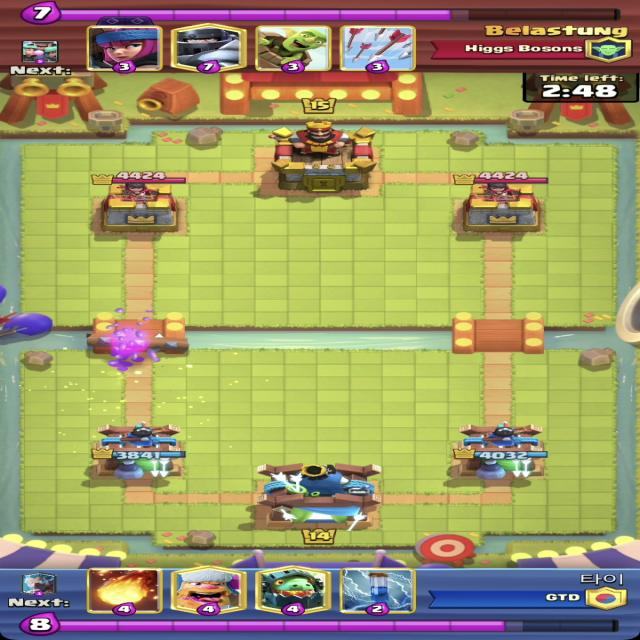Player-Log: (83, 332, 192, 355)
